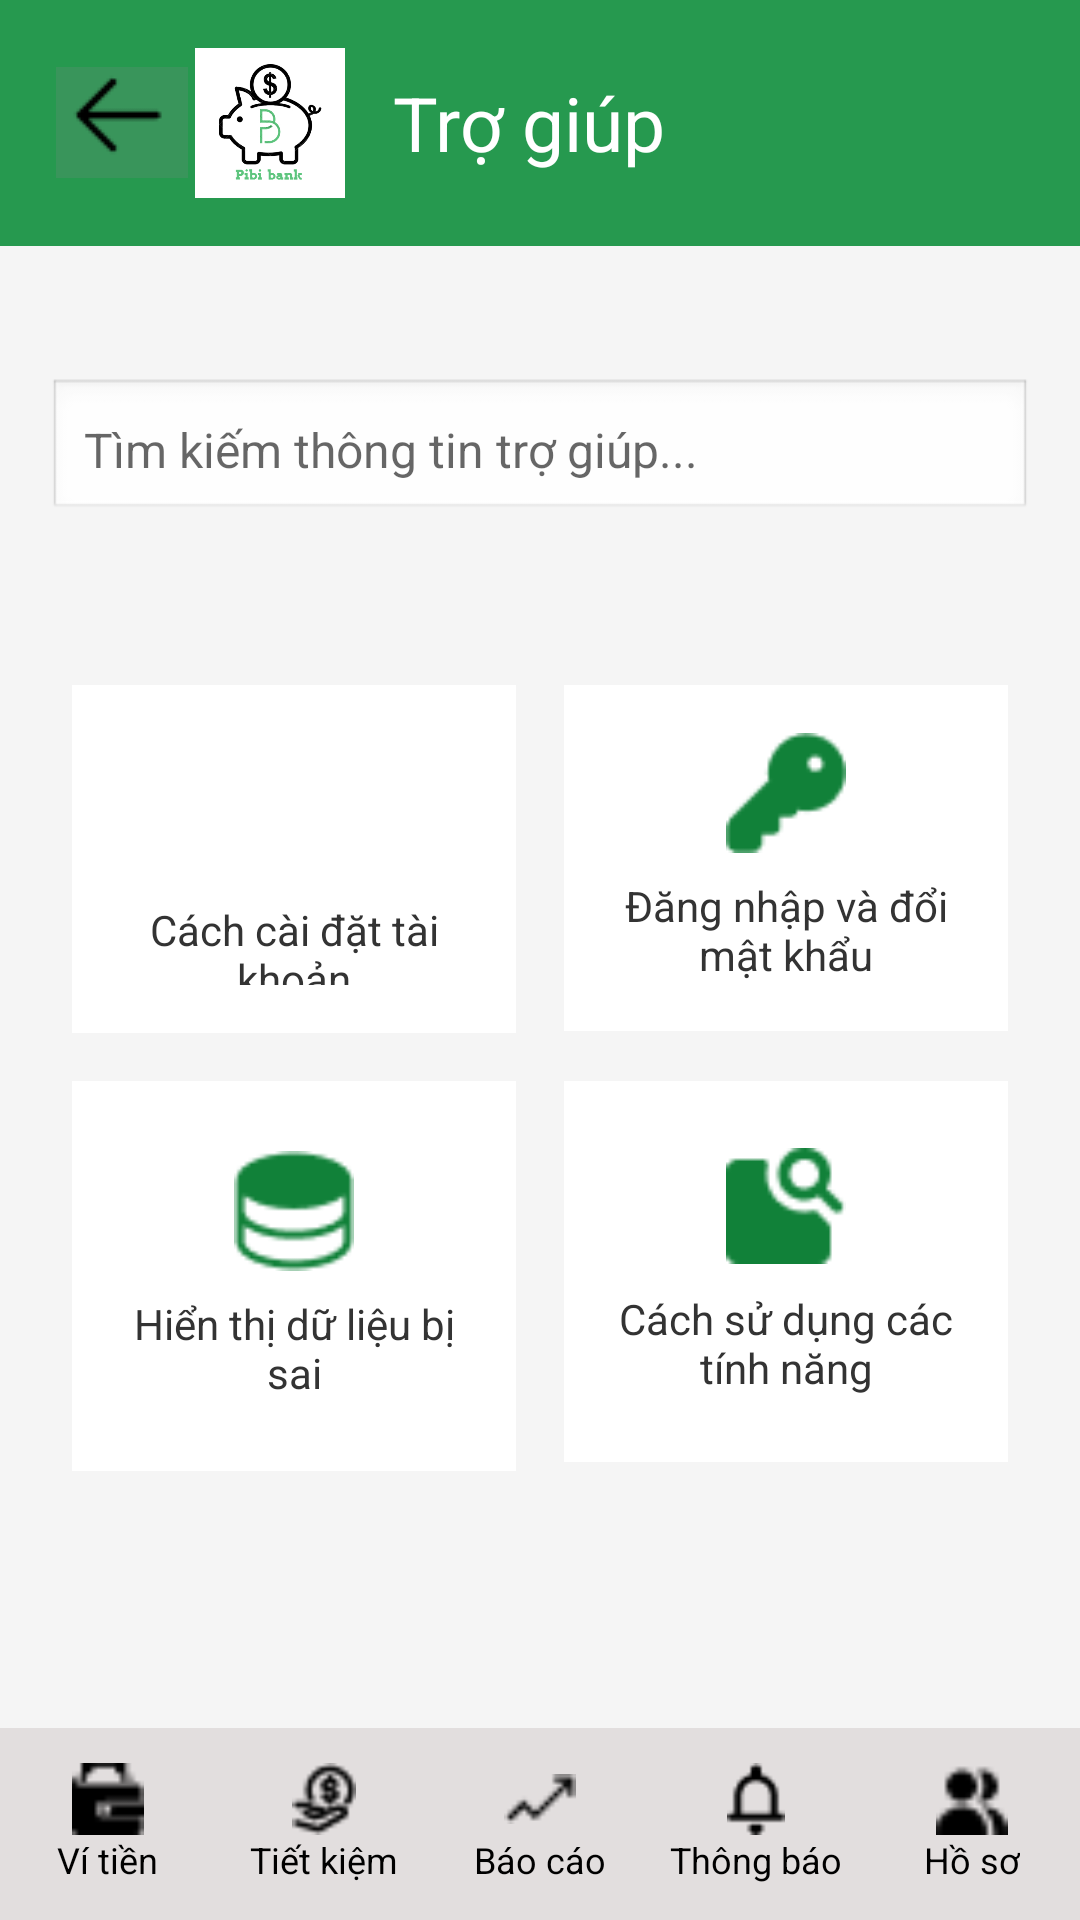

Where icons sit on this 1080*1920 app screen, as [left=x1, top=y1, right=x2, bottom=y2]:
muiten: [left=56, top=67, right=188, bottom=178]
